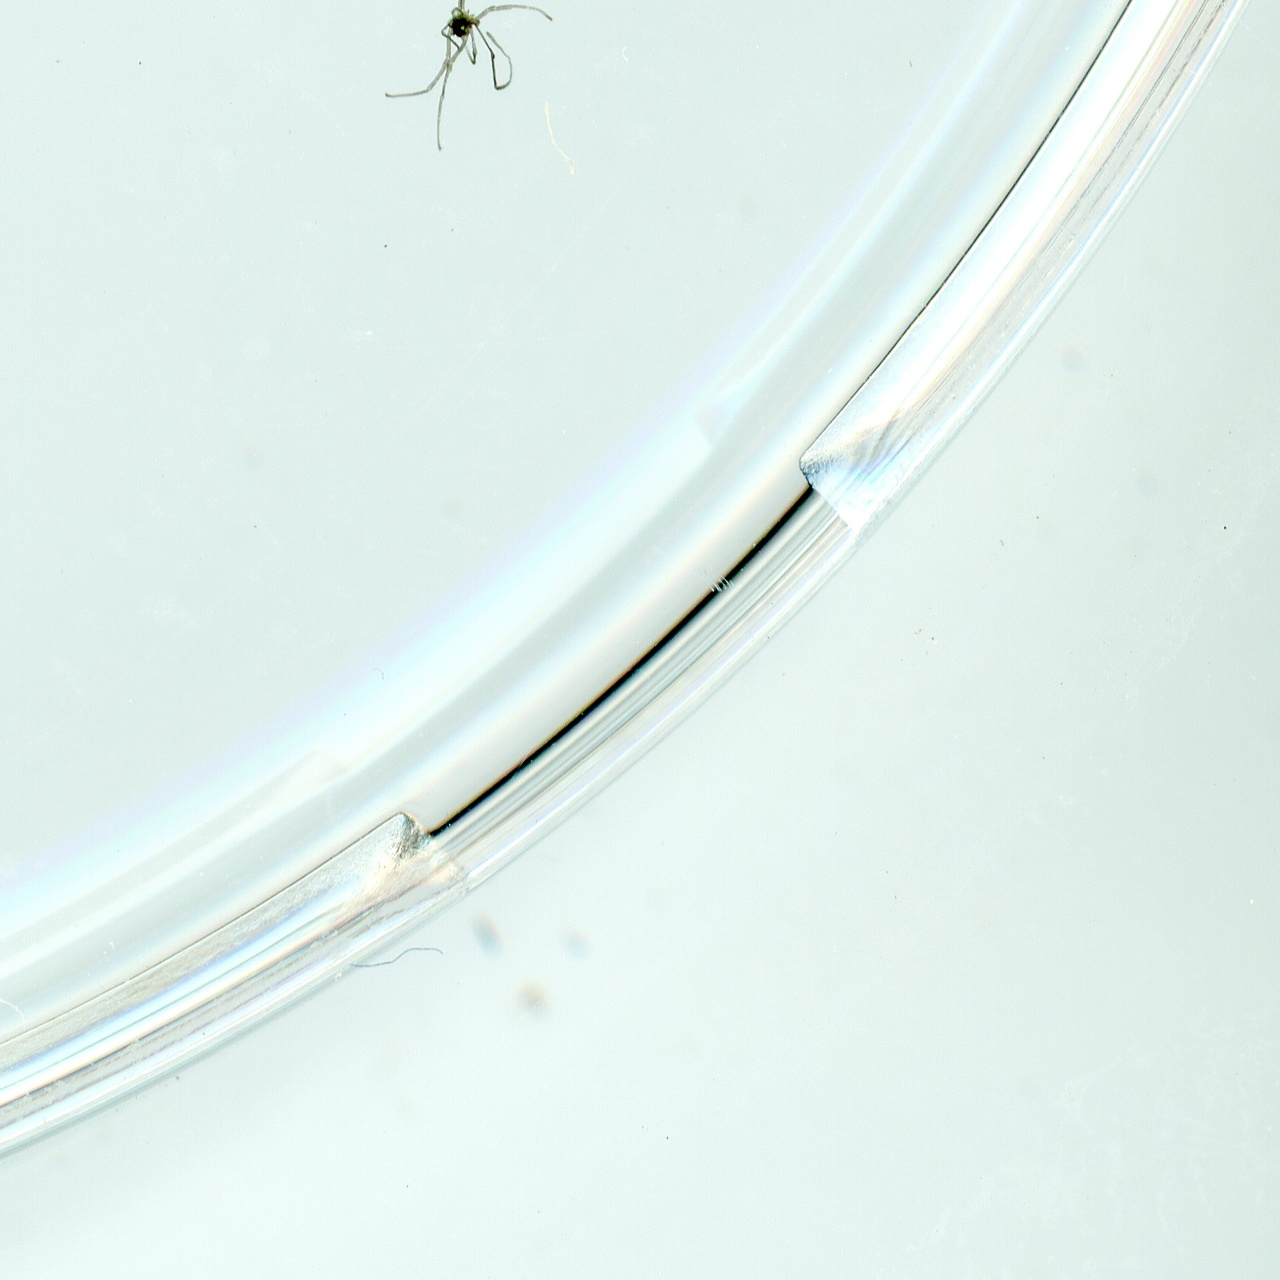arthropod: (372, 0, 561, 156)
